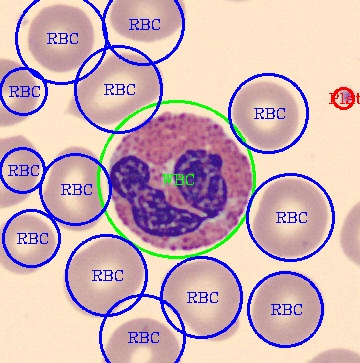Platelets: (333, 81, 358, 108)
RBC: (65, 48, 164, 126), (157, 254, 242, 342), (62, 234, 147, 318), (251, 176, 329, 260), (250, 269, 327, 349), (42, 142, 105, 232), (232, 79, 302, 152), (25, 3, 96, 74), (100, 315, 182, 361), (0, 212, 57, 277), (108, 1, 190, 45), (0, 131, 42, 209), (0, 56, 39, 128)
WBC: (105, 111, 252, 253)
